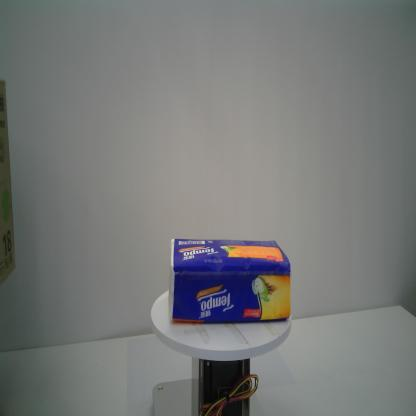Tissue: (168, 238, 291, 324)
